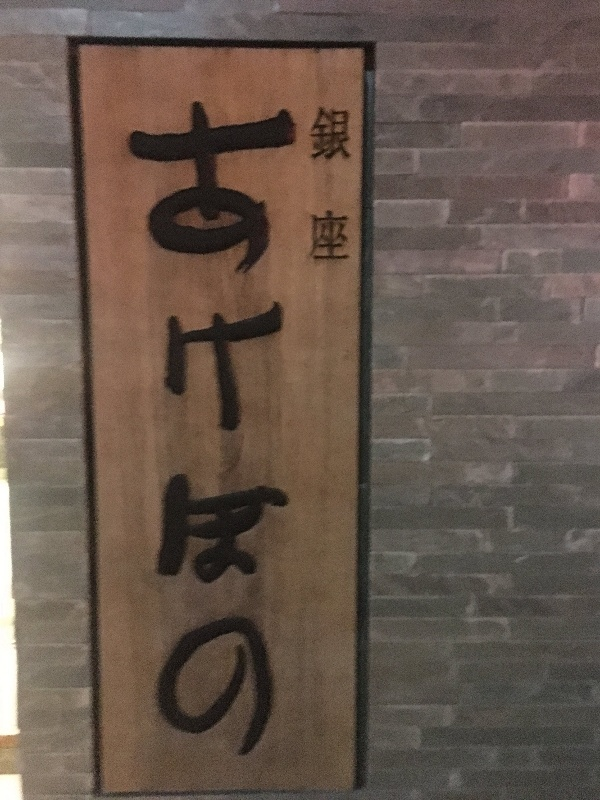text: (129, 102, 144, 776), (145, 102, 160, 776), (161, 102, 176, 776), (177, 102, 192, 776), (193, 102, 208, 776), (209, 102, 224, 776), (225, 102, 240, 776), (241, 102, 256, 776), (257, 102, 272, 776), (273, 102, 288, 776), (289, 102, 298, 776), (321, 103, 336, 266), (337, 103, 351, 266), (125, 102, 128, 776), (310, 103, 320, 266)
